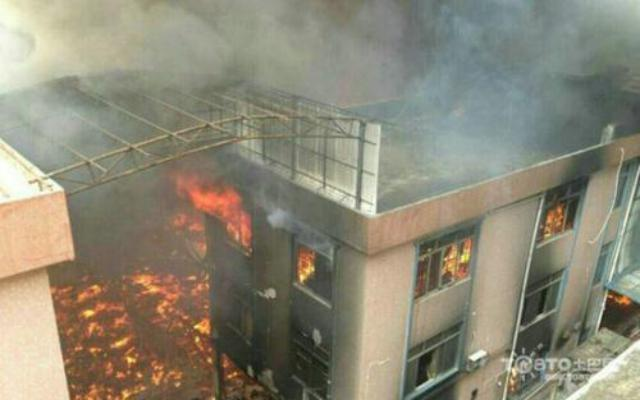fire: (186, 180, 234, 212), (441, 241, 469, 279), (225, 205, 249, 247), (542, 206, 562, 235), (296, 245, 312, 279), (75, 281, 99, 298), (130, 271, 152, 285), (192, 315, 210, 331), (150, 360, 160, 384), (108, 335, 126, 346), (78, 304, 92, 315), (142, 284, 164, 291), (614, 295, 630, 302), (163, 292, 174, 301), (154, 302, 162, 313)
